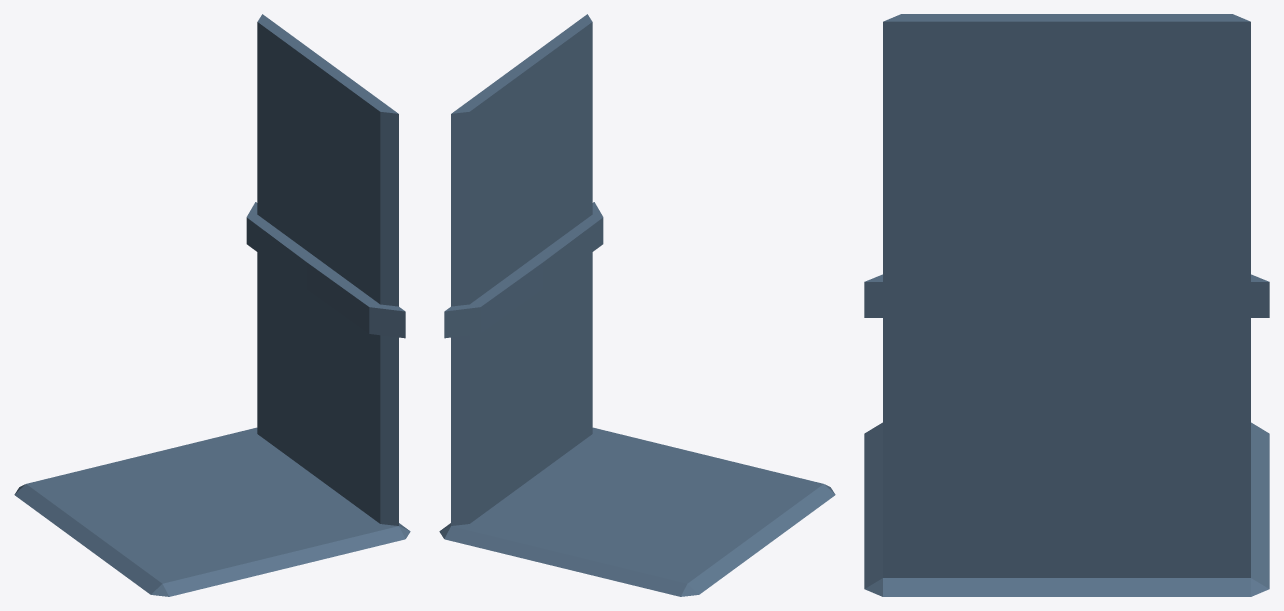
File: Wall1.FBX
The picture shows the model from 3 angles, left to right: view 1: azimuth 30°, elevation 25°; view 2: azimuth 150°, elevation 25°; view 3: azimuth 270°, elevation 25°; orthographic projection. The views are drawn at different scales.
Visible parts, largest first — view 1: Wall1, Object010; view 2: Wall1, Object010; view 3: Wall1, Object010.
Boxes of the visible parts, x1,y1,x2,y2 form: Wall1: (14,14,410,596); Object010: (246,202,405,338); Wall1: (439,14,835,596); Object010: (444,202,603,338); Wall1: (864,14,1269,596); Object010: (864,274,1269,317).
Bounding box in the file's own units: 130 × 201 × 130.
